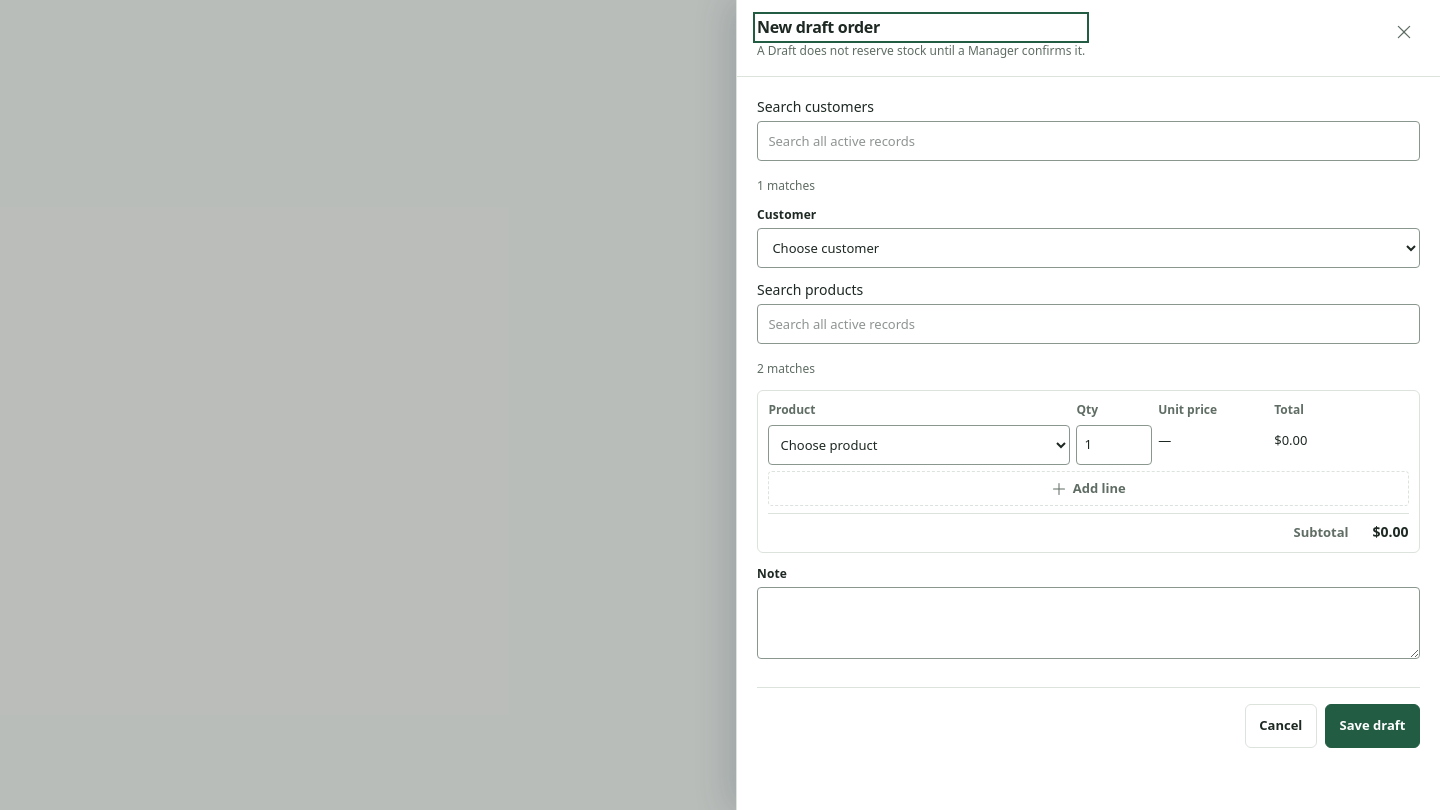
Scenario: OrderFormDrawer multi-line order entry › computes a subtotal across lines from catalog prices
Select "NTR-GLV-L · Nitrile Gloves L" in the dropdown named "Product for line 1" at (919, 445), box [768,425,1070,465]
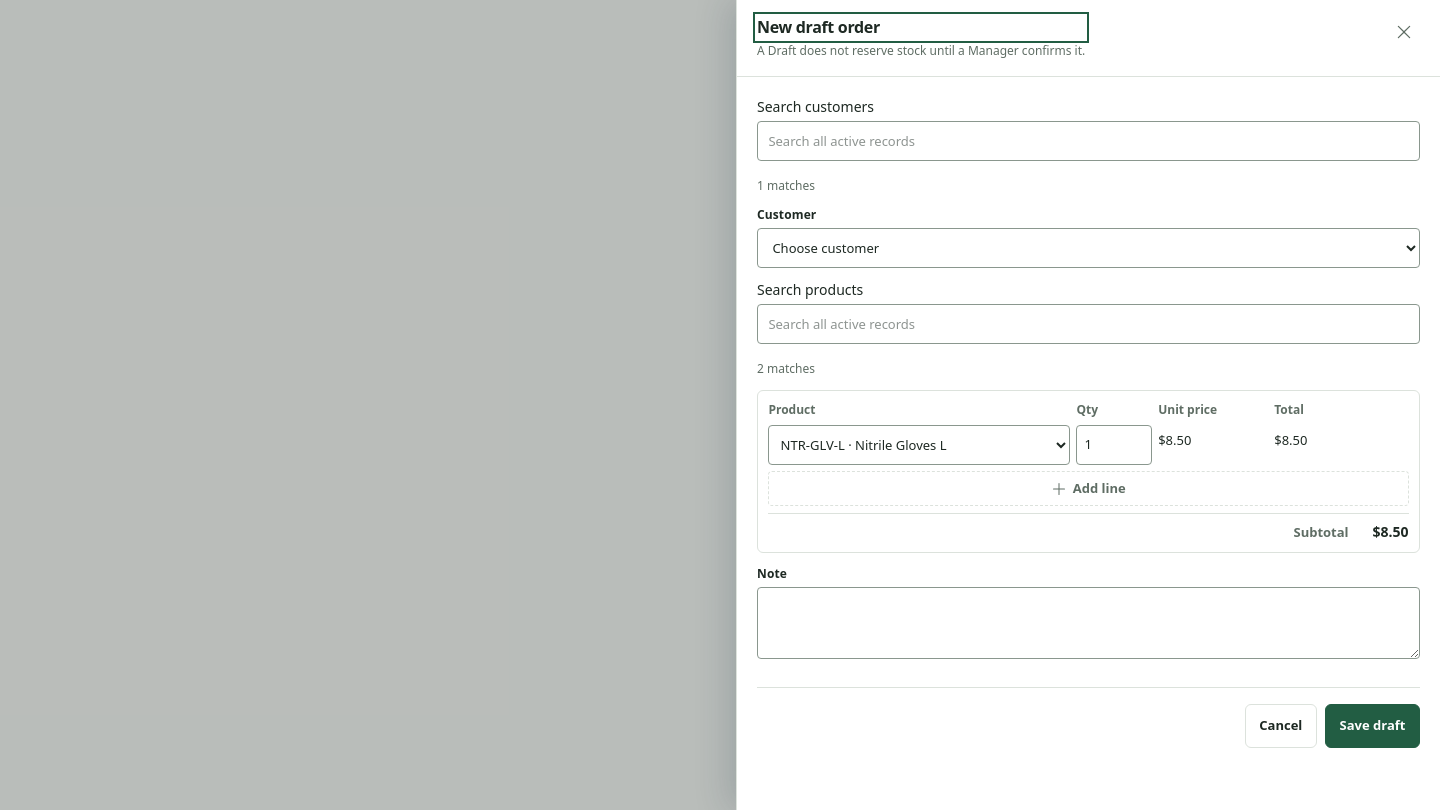
Replace the text in the number field named "Quantity for line 1" with "20" at (1114, 445), box [1076,425,1152,465]
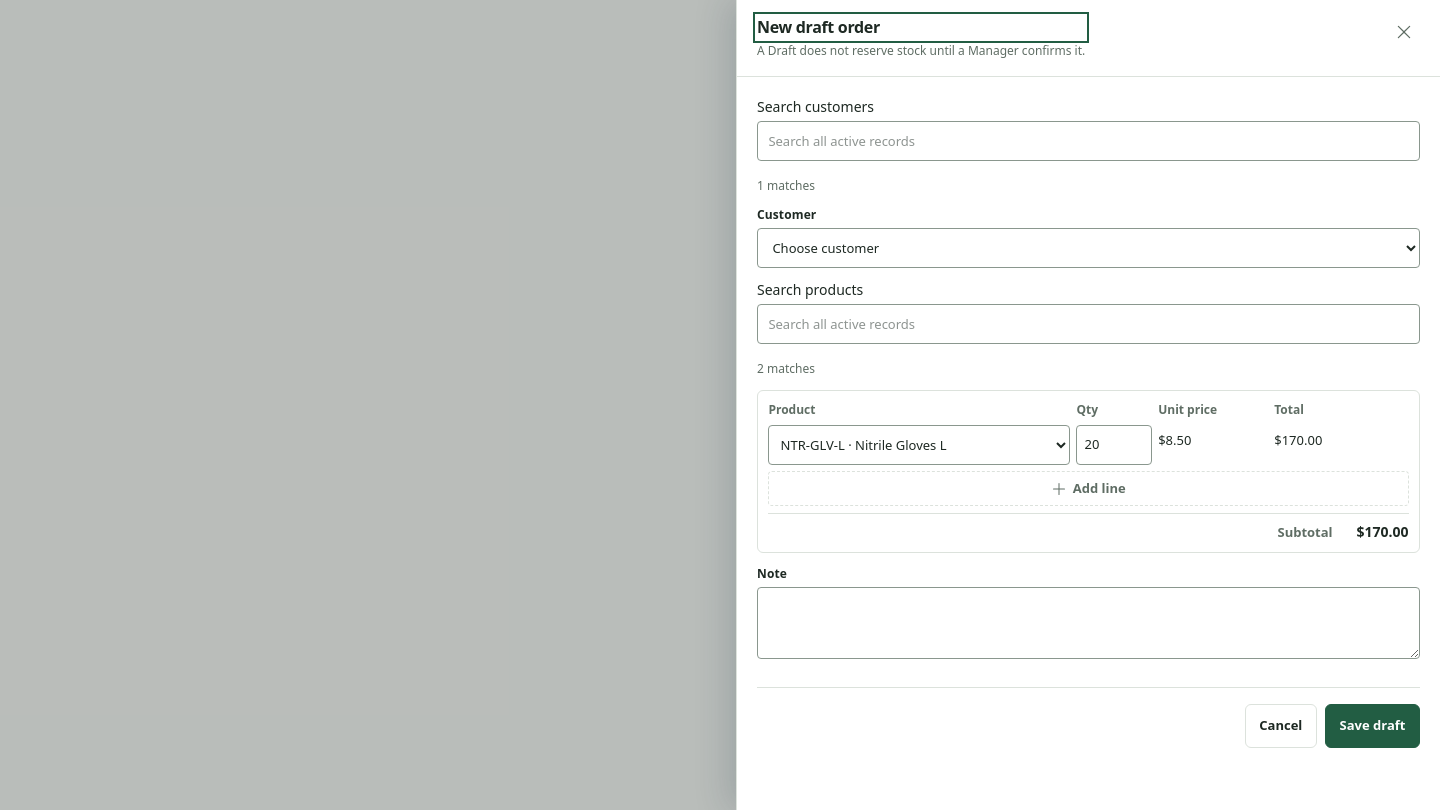
Expected: the text "$8.50" is shown, [1158,431,1191,449]
Expected: the text "$170.00" is shown, [1274,431,1322,449]
Click the button "Add line" at (1088, 489), box [768,471,1409,506]
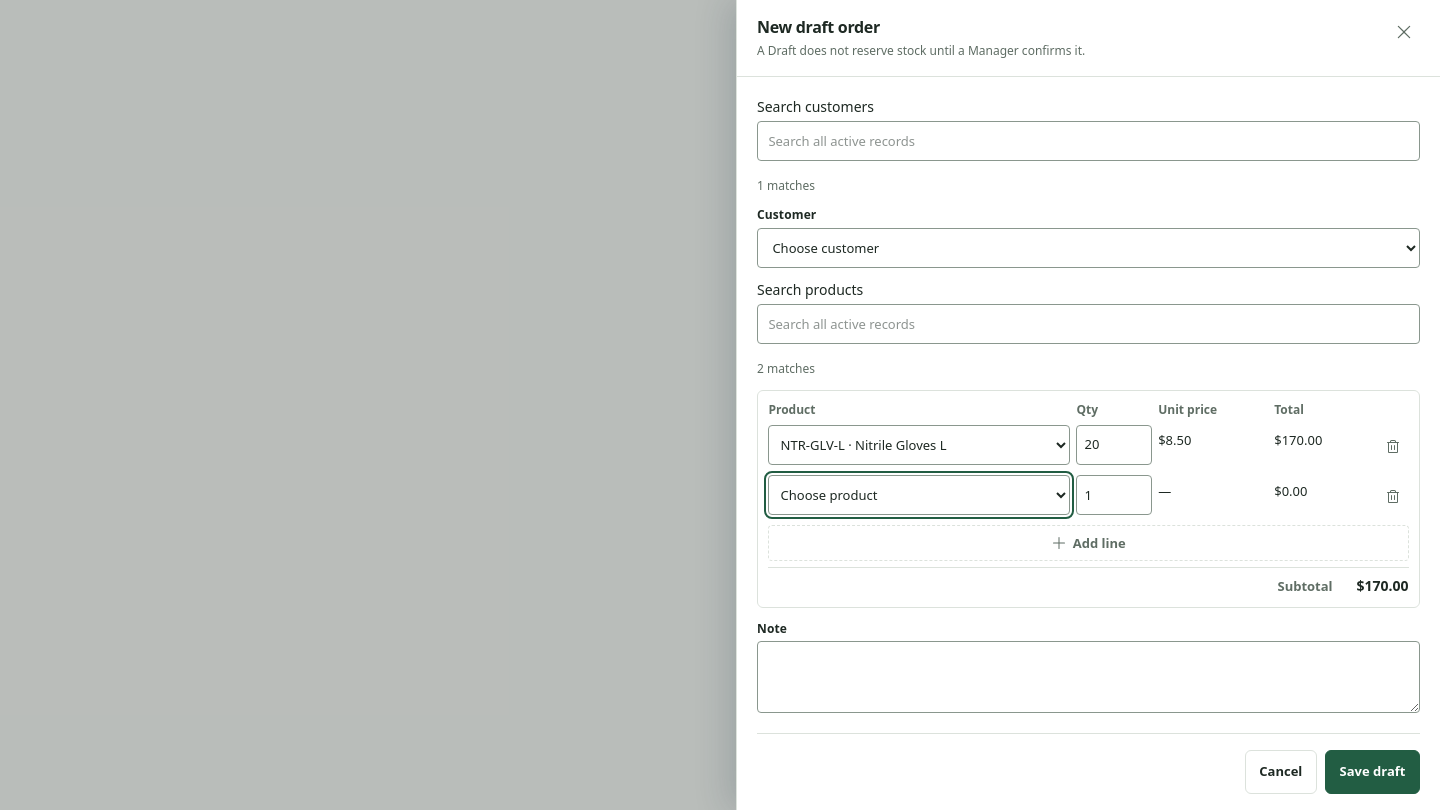
Select "PCK-TAPE · Packing Tape" in the dropdown named "Product for line 2" at (919, 495), box [768,475,1070,515]
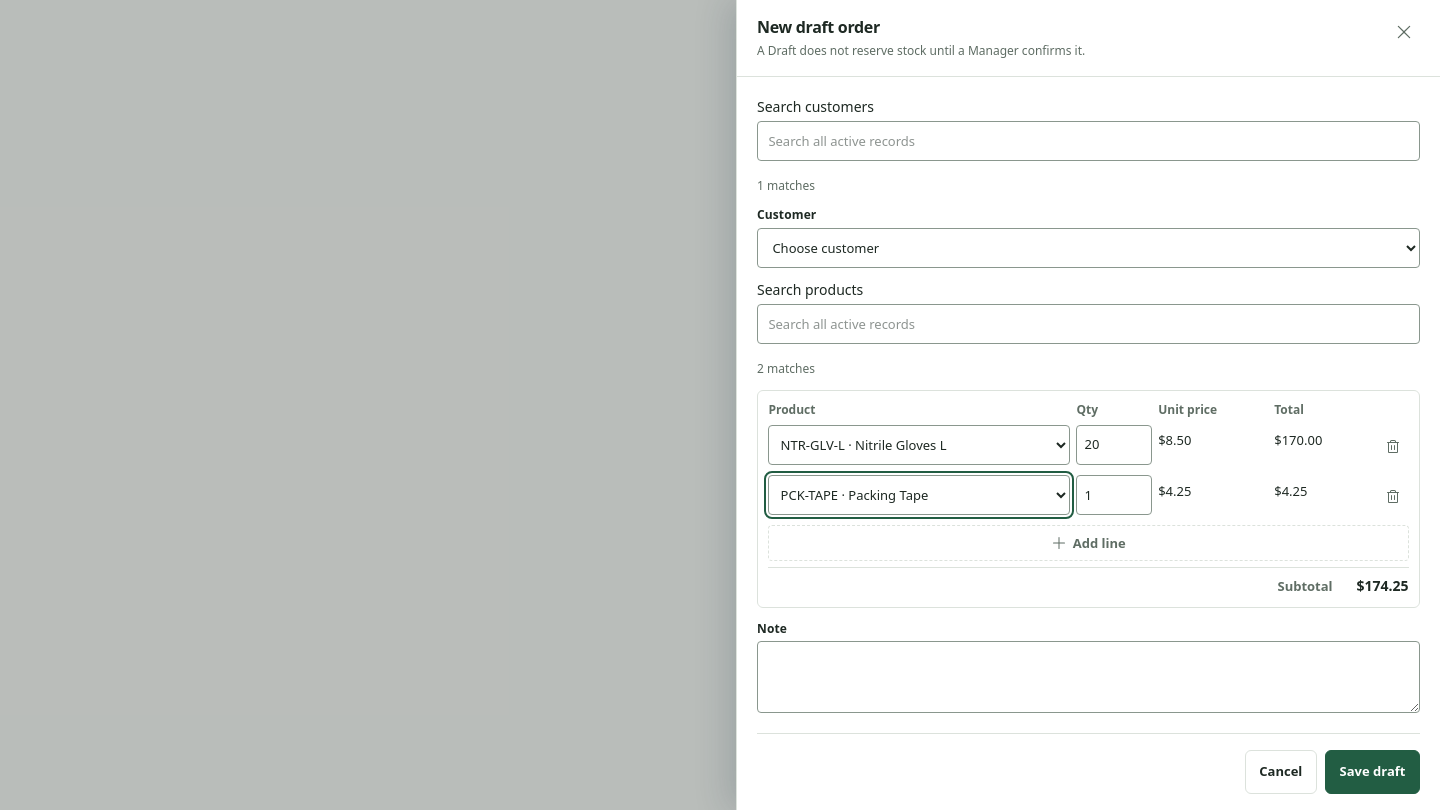
Replace the text in the number field named "Quantity for line 2" with "6" at (1114, 495), box [1076,475,1152,515]
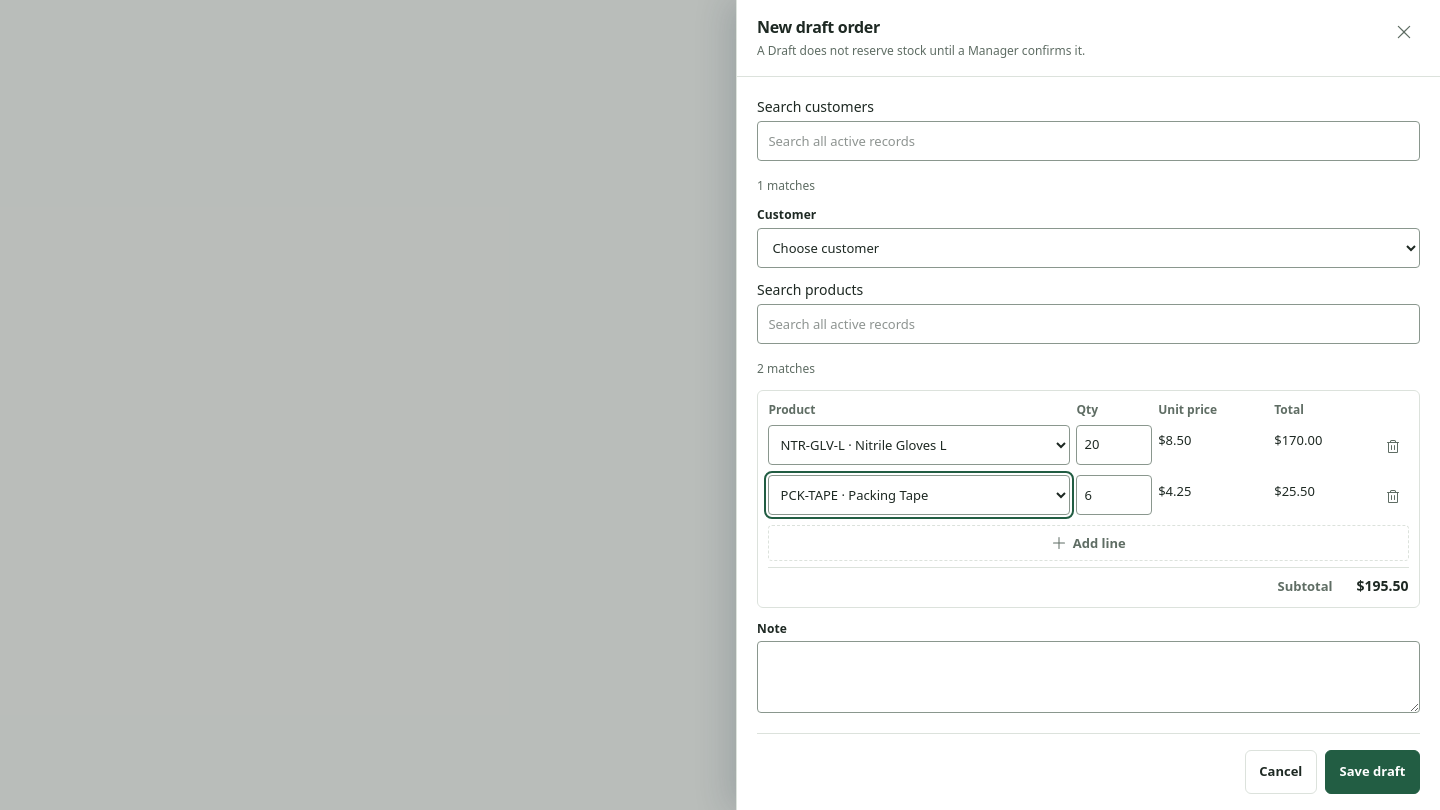
Expected: the text "$195.50" is shown, [1357,576,1409,596]
